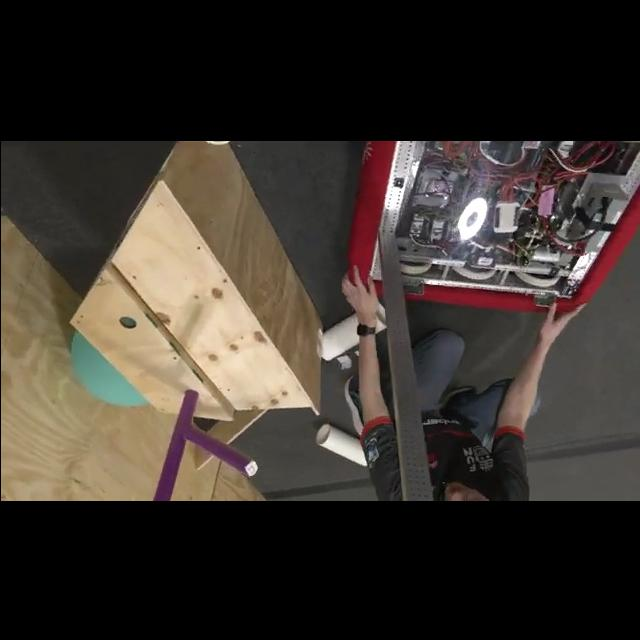CORAL: (317, 306, 388, 360), (316, 422, 368, 466)
